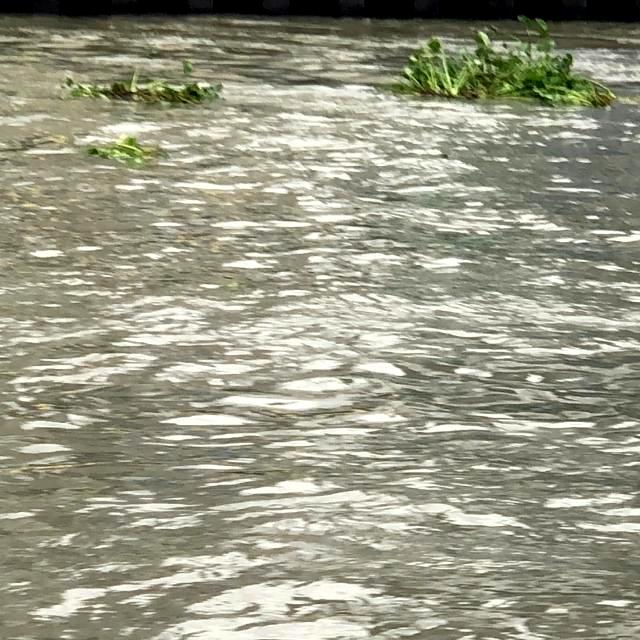water-hyacinth: (391, 20, 623, 114), (57, 61, 218, 107), (87, 136, 172, 169)
